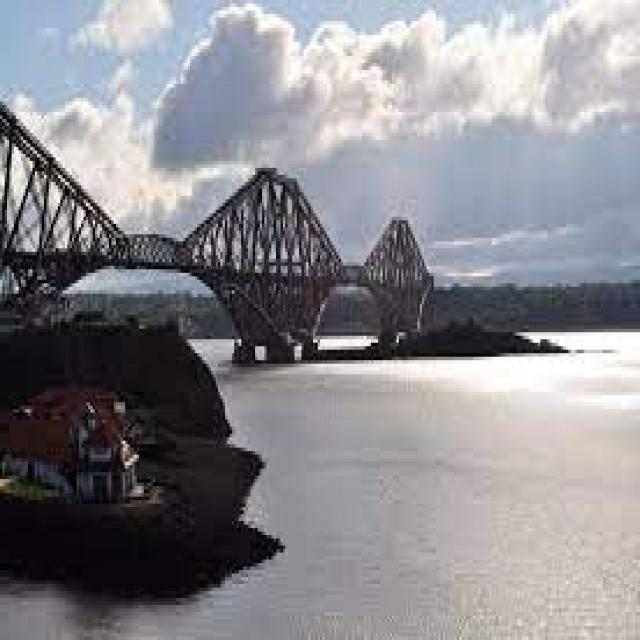Bridges: (0, 126, 519, 386)
